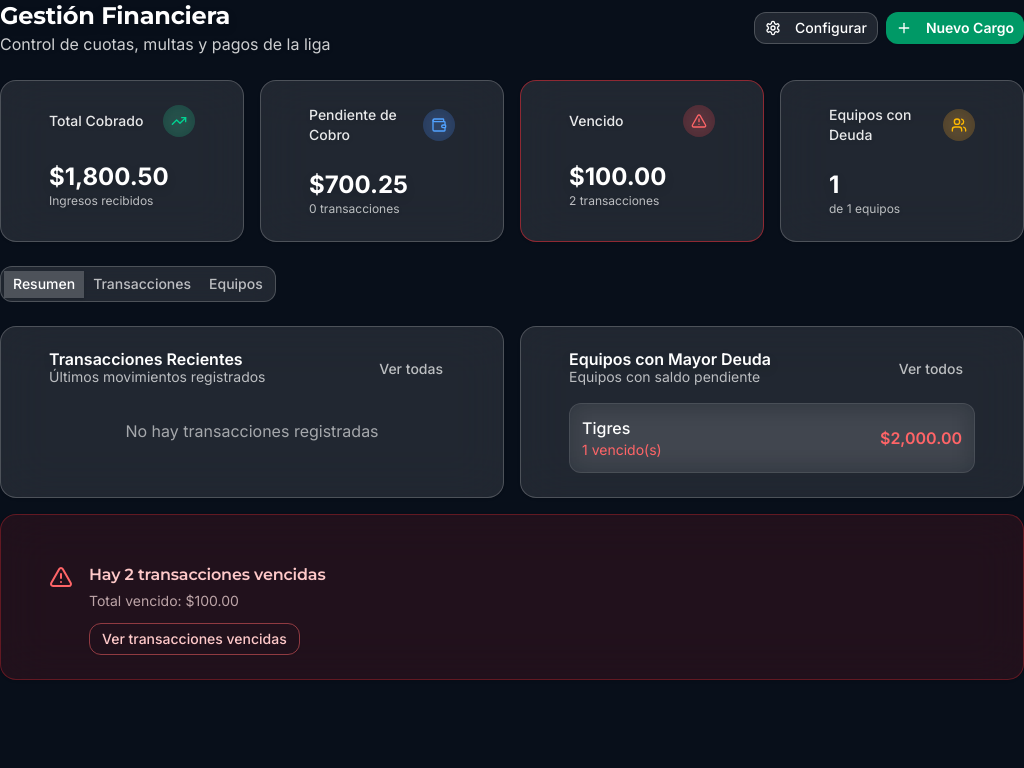
Test: Finance: team balance drill-down › opens the statement of the team with its balance and transactions
Step 1. Click the tab "Equipos" → [236, 284], box [200,270,272,298]
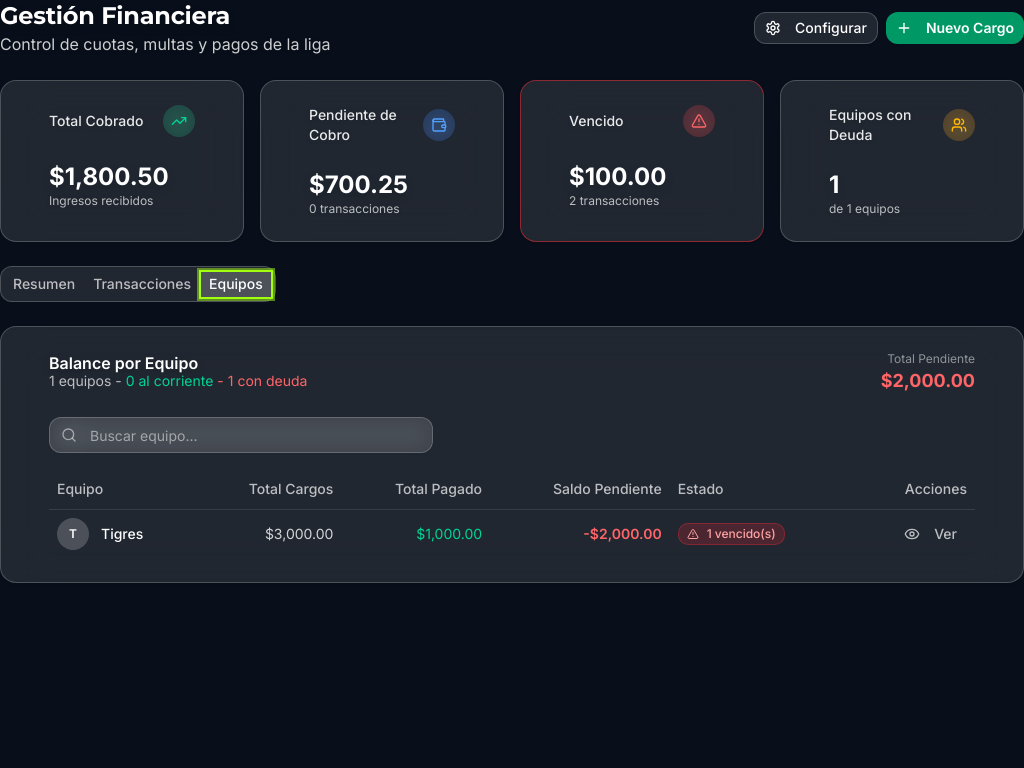
Step 2. Click the button with aria-label "Ver estado de cuenta de Tigres" → [931, 534], box [894,518,967,550]
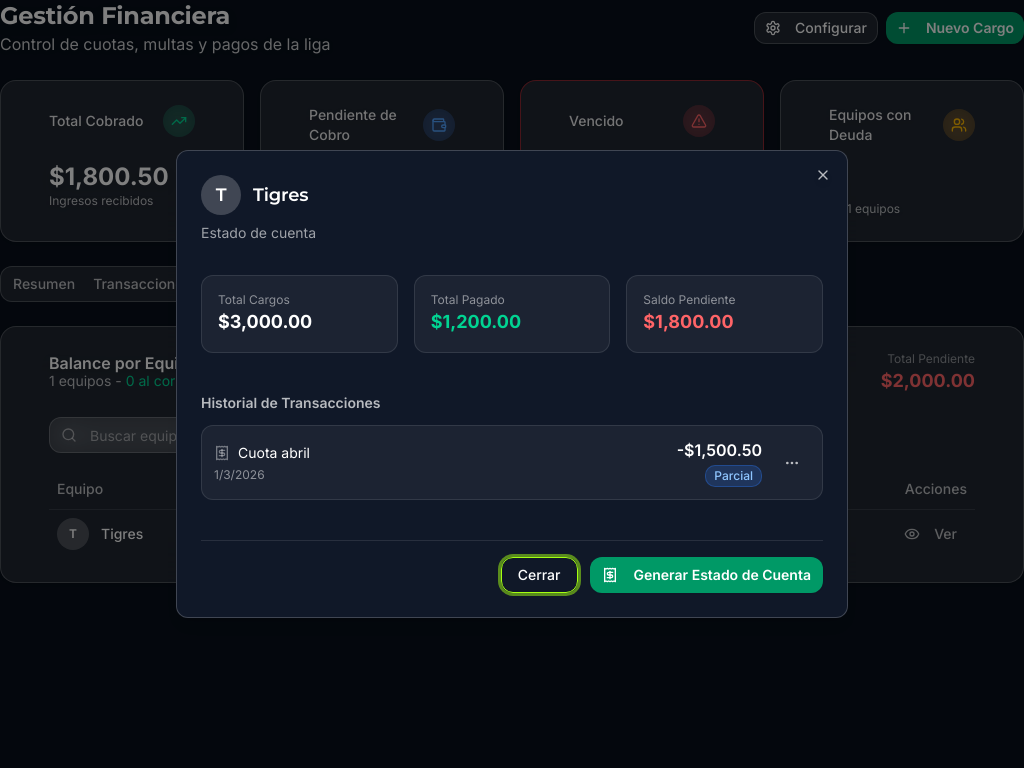
Check: the text "Cuota abril" is shown, box [238,442,310,462]
Check: the text "$1,800.00" is shown, box [643,311,734,332]
